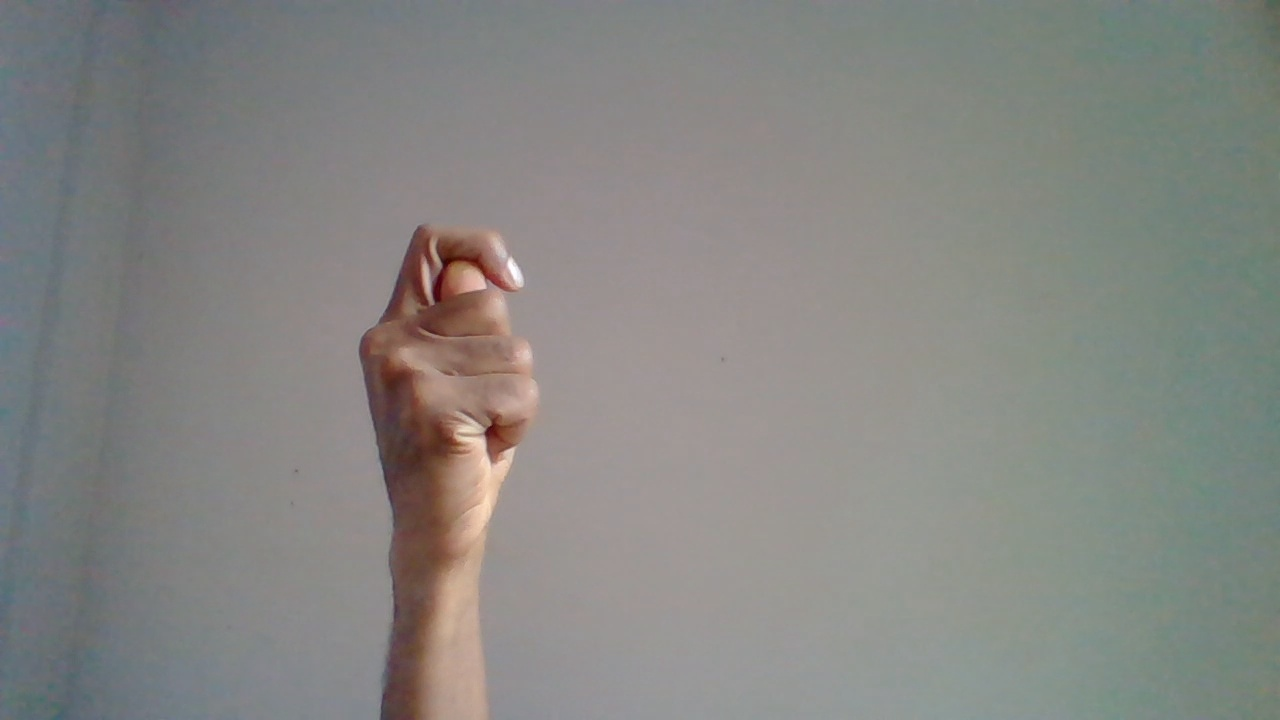che: (359, 226, 546, 677)
